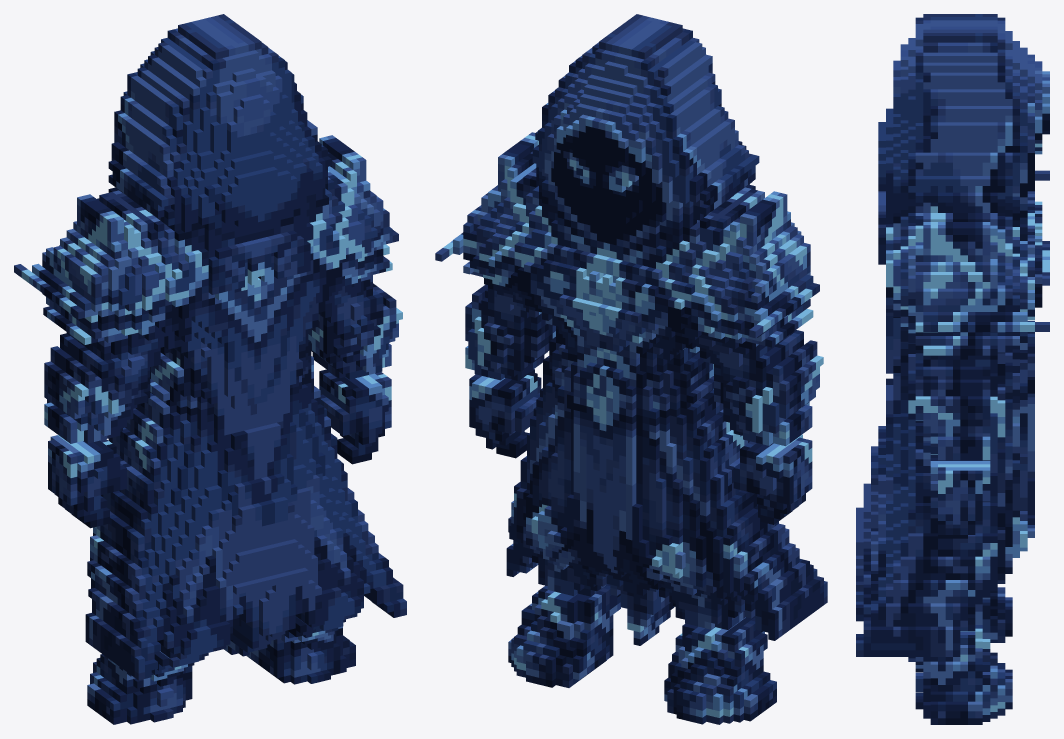
File: voxel_character.glb
3 views of the same model, side by side, from view 1: azimuth 30°, elevation 25°; view 2: azimuth 150°, elevation 25°; view 3: azimuth 270°, elevation 25° (orthographic).
Parts seen in each view (by area): view 1: Head, LegL, PadL, SkirtB, Torso, Hips, LegR, PadR, ArmL, FootL, HandL, HandR (+6 smaller); view 2: Head, PadL, SkirtF, LegL, Hips, Torso, PadR, FootL, FootR, ArmL, LegR, HandL (+5 smaller); view 3: Head, PadR, LegR, FootR, ArmR, Hips, HandR, SkirtR, ForeR, SkirtF, SkirtB, Torso (+1 smaller).
Boxes of the visible parts, x1,y1,x2,y2 form: Head: [114, 14, 328, 262]; LegL: [87, 419, 227, 659]; PadL: [14, 142, 195, 348]; SkirtB: [207, 428, 334, 656]; Torso: [170, 231, 325, 363]; Hips: [132, 332, 320, 443]; LegR: [283, 397, 378, 625]; PadR: [312, 135, 398, 307]; ArmL: [44, 332, 174, 408]; FootL: [87, 651, 208, 724]; HandL: [48, 435, 126, 528]; HandR: [319, 369, 391, 464]; Head: [535, 14, 749, 258]; PadL: [661, 144, 819, 349]; SkirtF: [531, 414, 685, 645]; LegL: [659, 421, 799, 632]; Hips: [540, 329, 724, 446]; Torso: [535, 225, 689, 360]; PadR: [435, 132, 548, 309]; FootL: [664, 616, 776, 724]; FootR: [508, 584, 620, 687]; ArmL: [685, 330, 823, 405]; LegR: [508, 397, 607, 596]; HandL: [733, 434, 812, 524]; Head: [878, 14, 1049, 240]; PadR: [886, 176, 1049, 355]; LegR: [856, 407, 1012, 631]; FootR: [908, 625, 1012, 724]; ArmR: [900, 330, 1005, 419]; Hips: [886, 321, 1034, 423]; HandR: [930, 454, 990, 538]; SkirtR: [856, 600, 960, 656]; ForeR: [908, 407, 1005, 460]; SkirtF: [1012, 410, 1034, 557]; SkirtB: [856, 407, 893, 581]; Torso: [878, 194, 1049, 345].
Bounding box in the file's own units: 0.98 × 1.9 × 0.52.
Materials: 1 (1 with a texture image).
